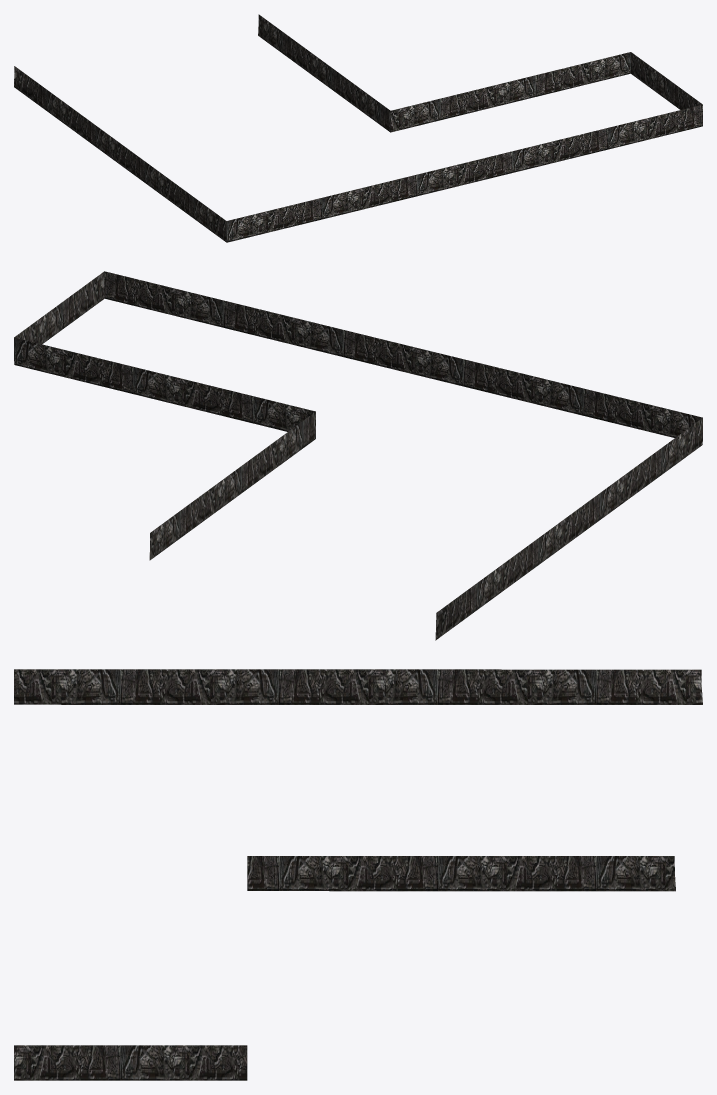
Rendered from CH09_SMAUG_PLAYSURFACE_LAIR98.fbx.
3 renders of one model, top to bottom at view 1: azimuth 30°, elevation 25°; view 2: azimuth 150°, elevation 25°; view 3: azimuth 270°, elevation 25°, orthographic. The views are drawn at different scales.
Parts seen in each view (by area): view 1: CH09_SMAUG_PLAYSURFACE_LAIR98; view 2: CH09_SMAUG_PLAYSURFACE_LAIR98; view 3: CH09_SMAUG_PLAYSURFACE_LAIR98.
Part boxes in pixels (x1,y1,x2,y2): CH09_SMAUG_PLAYSURFACE_LAIR98: (14, 14, 702, 242); CH09_SMAUG_PLAYSURFACE_LAIR98: (14, 271, 702, 640); CH09_SMAUG_PLAYSURFACE_LAIR98: (14, 669, 702, 1080).
Bounding box in the file's own units: 318535 × 14139 × 246421.
Materials: 1 (1 with a texture image).
